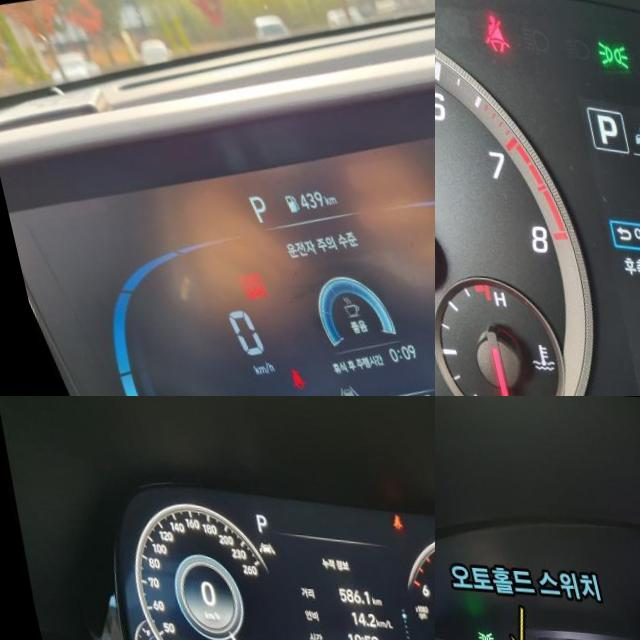LaneCenteringOff: (245, 536, 263, 550)
SideLamp: (588, 34, 625, 67), (464, 625, 483, 640)
